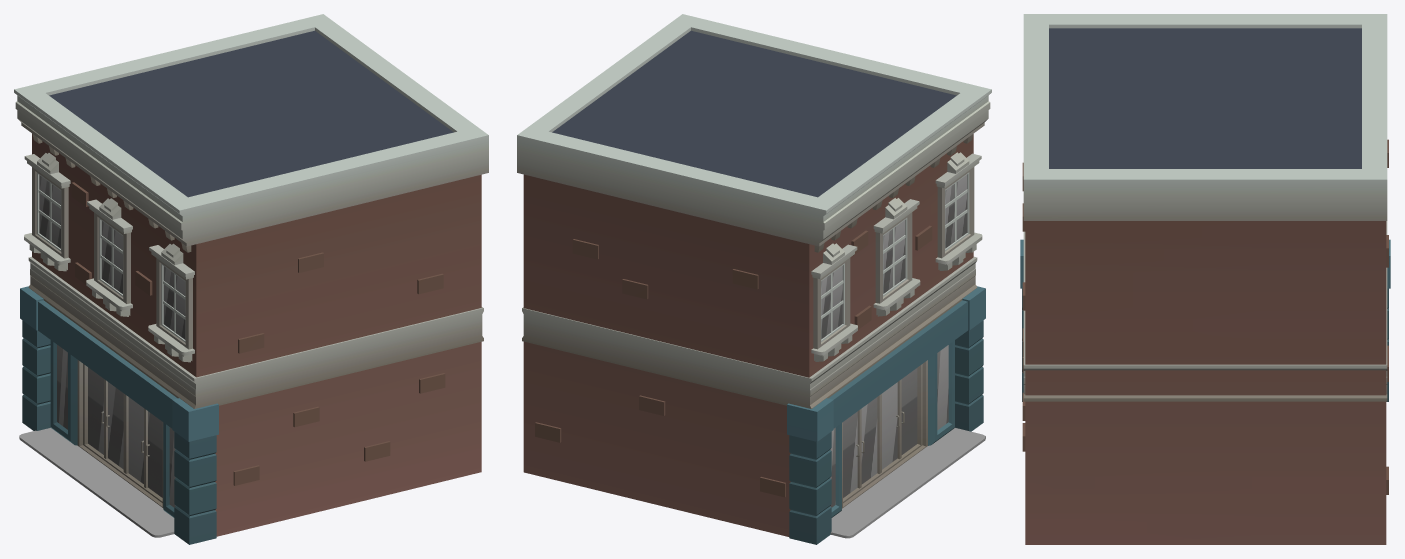
The model's file is Building_21_4_H.fbx.
3 renders of one model, left to right at view 1: azimuth 30°, elevation 25°; view 2: azimuth 150°, elevation 25°; view 3: azimuth 270°, elevation 25°, orthographic. The views are drawn at different scales.
Parts seen in each view (by area): view 1: Building_21_4_H; view 2: Building_21_4_H; view 3: Building_21_4_H.
Part boxes in pixels (x1,y1,x2,y2): Building_21_4_H: [14, 14, 488, 544]; Building_21_4_H: [517, 14, 991, 544]; Building_21_4_H: [1020, 14, 1390, 544].
Bounding box in the file's own units: 779 × 782 × 713.
